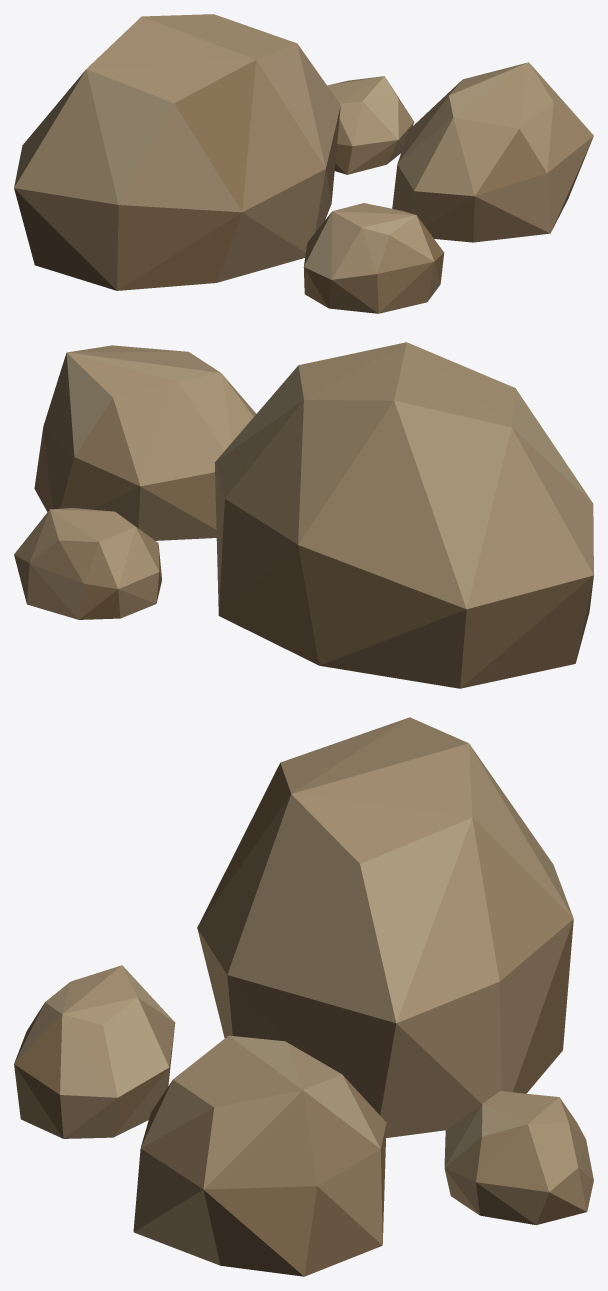
3 views of the same model, one above another, from view 1: azimuth 30°, elevation 25°; view 2: azimuth 150°, elevation 25°; view 3: azimuth 270°, elevation 25° (orthographic). The views are drawn at different scales.
Visible parts, largest first — view 1: r04; view 2: r04; view 3: r04.
Part boxes in pixels (x1,y1,x2,y2): r04: (14,14,593,313); r04: (14,342,593,688); r04: (14,717,593,1276).
Bounding box in the file's own units: 1.5 × 0.5725 × 1.05.
